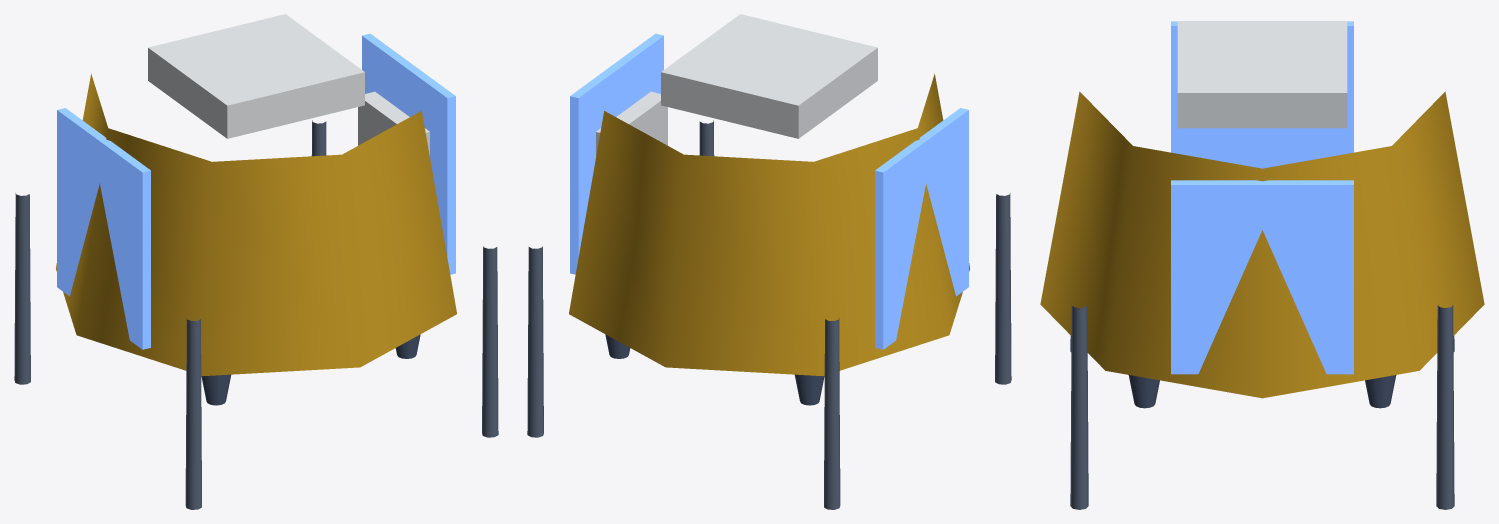
The model's file is chandrayaan3.glb.
3 renders of one model, left to right at view 1: azimuth 30°, elevation 25°; view 2: azimuth 150°, elevation 25°; view 3: azimuth 270°, elevation 25°, orthographic. The views are drawn at different scales.
Parts seen in each view (by area): view 1: Body_Octagon, Top_Avionics_Deck, Solar_Panel_Left, Solar_Panel_Right, Strut_4, Strut_1, Strut_3, Pragyan_Rover_Ramp, Thruster_3; view 2: Body_Octagon, Top_Avionics_Deck, Solar_Panel_Left, Solar_Panel_Right, Strut_2, Strut_3, Strut_1, Pragyan_Rover_Ramp, Thruster_1; view 3: Body_Octagon, Solar_Panel_Right, Top_Avionics_Deck, Solar_Panel_Left, Strut_2, Strut_4, Thruster_2, Thruster_4.
Part boxes in pixels (box(x1,y1,x2,y2)): Body_Octagon: box(56, 73, 456, 376); Top_Avionics_Deck: box(148, 14, 364, 138); Solar_Panel_Left: box(57, 108, 150, 349); Solar_Panel_Right: box(362, 33, 455, 274); Strut_4: box(482, 246, 498, 437); Strut_1: box(14, 193, 30, 384); Strut_3: box(185, 318, 201, 509); Pragyan_Rover_Ramp: box(358, 91, 429, 156); Thruster_3: box(201, 374, 231, 405); Body_Octagon: box(569, 73, 969, 376); Top_Avionics_Deck: box(661, 14, 877, 138); Solar_Panel_Left: box(875, 108, 968, 349); Solar_Panel_Right: box(570, 33, 663, 274); Strut_2: box(527, 246, 543, 437); Strut_3: box(995, 193, 1011, 384); Strut_1: box(824, 318, 840, 509); Pragyan_Rover_Ramp: box(596, 91, 667, 156); Thruster_1: box(794, 374, 824, 405); Body_Octagon: box(1040, 91, 1484, 398); Solar_Panel_Right: box(1171, 180, 1353, 374); Top_Avionics_Deck: box(1177, 21, 1347, 128); Solar_Panel_Left: box(1171, 21, 1353, 168); Strut_2: box(1436, 305, 1454, 509); Strut_4: box(1070, 305, 1088, 509); Thruster_2: box(1365, 375, 1396, 408); Thruster_4: box(1128, 375, 1159, 408).
Size of the model in its own units: 1.7 by 1.57 by 1.7.
